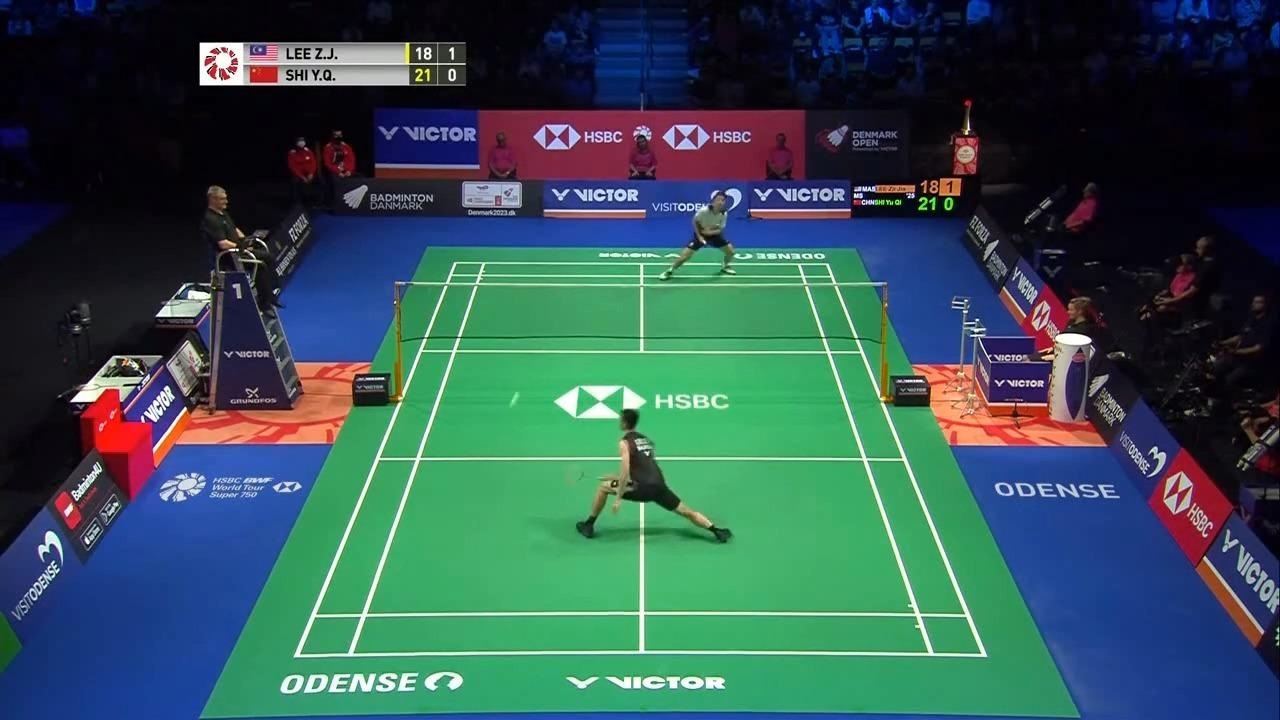shuttle: (507, 392, 520, 405)
